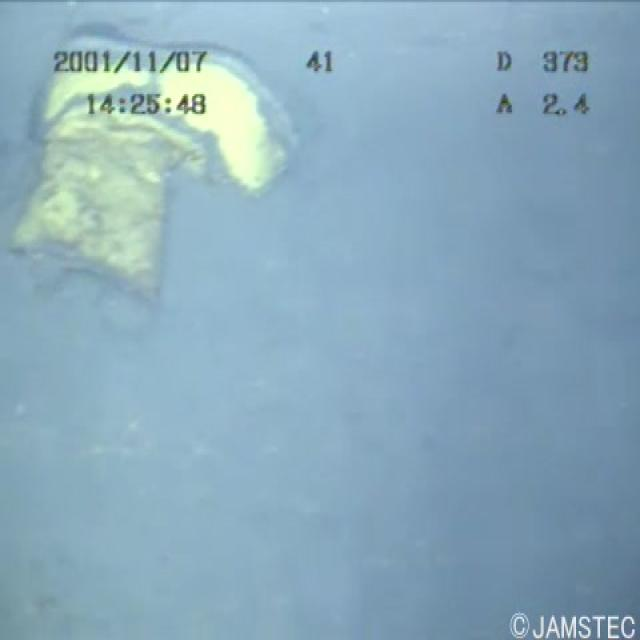plastic: (0, 1, 317, 325)
